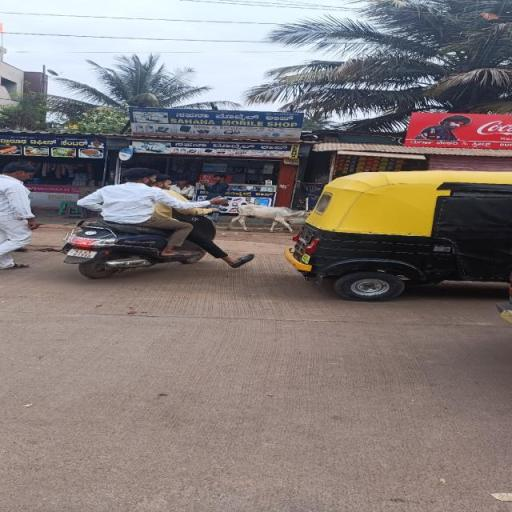bike: (60, 167, 219, 280)
numberplate: (66, 246, 97, 262)
withouthelmet: (126, 168, 154, 184), (158, 174, 172, 188)
